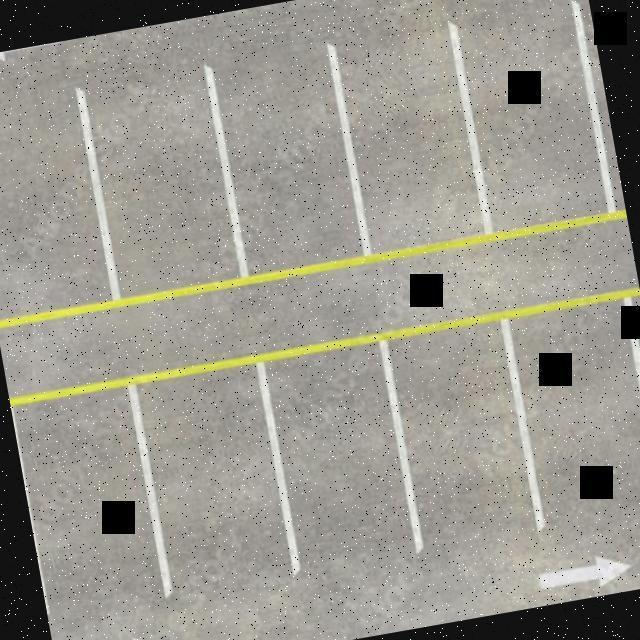free: (123, 355, 308, 596), (74, 67, 249, 307), (443, 4, 620, 241), (324, 28, 500, 264), (201, 45, 374, 279), (251, 340, 423, 568), (383, 317, 548, 547), (10, 381, 171, 615), (500, 295, 640, 523), (0, 90, 122, 322)
